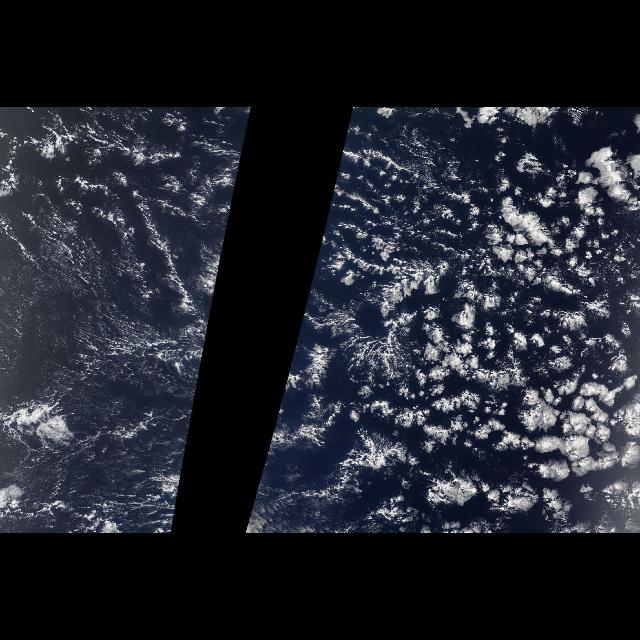Flower: (356, 140, 640, 522)
Sugar: (7, 199, 212, 517)
